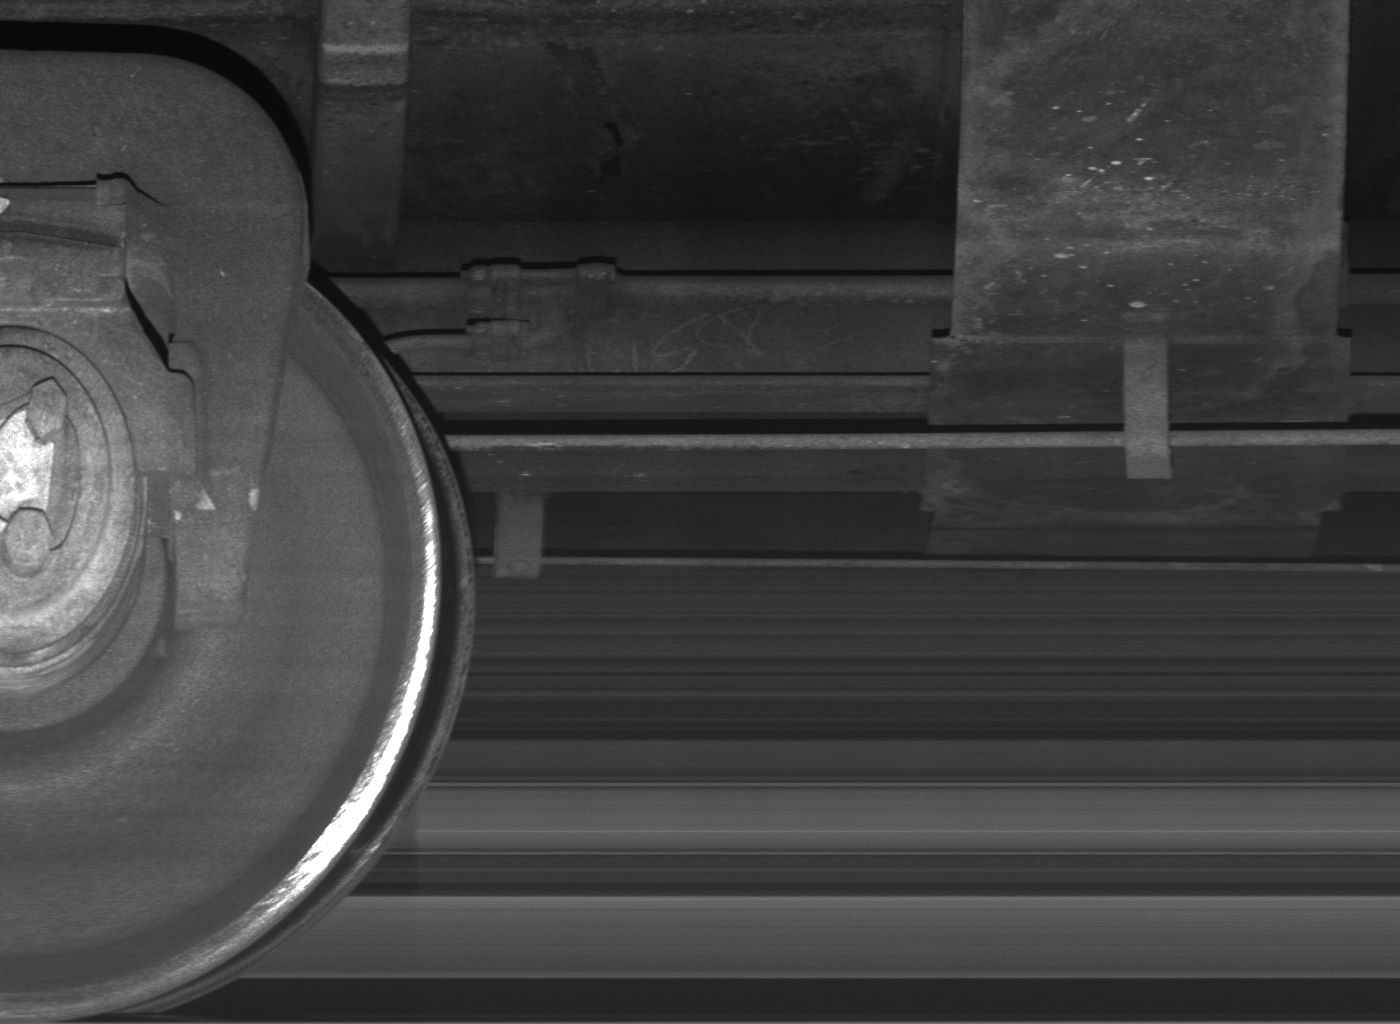normal: (1120, 342, 1175, 479), (490, 492, 546, 580)
